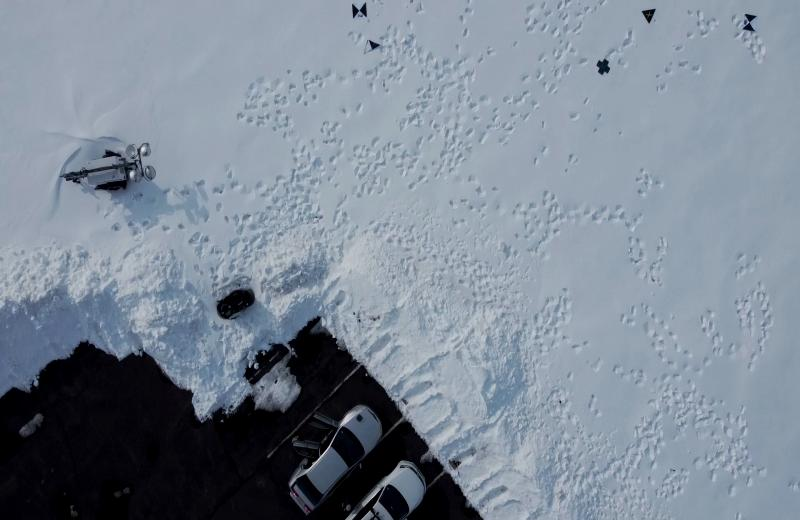Cross: (594, 57, 613, 76)
Triangle: (640, 7, 658, 25)
